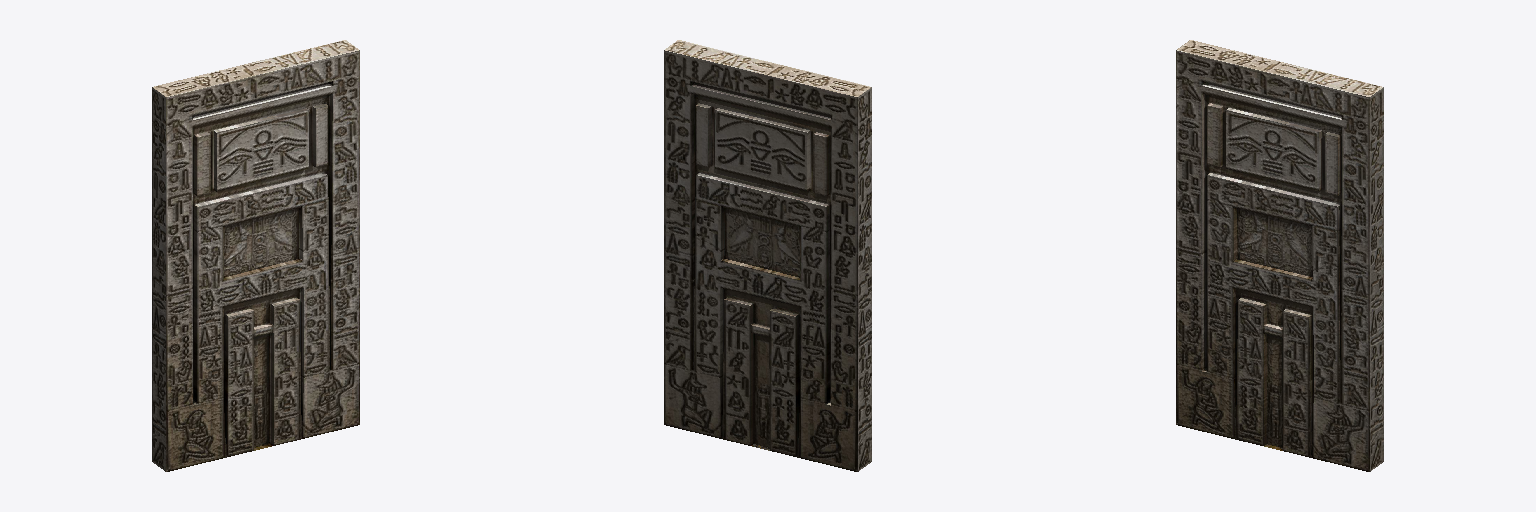
The picture shows the model from 3 angles: view 1: azimuth 30°, elevation 25°; view 2: azimuth 150°, elevation 25°; view 3: azimuth 330°, elevation 25°; orthographic projection.
Parts seen in each view (by area): view 1: doorway_door; view 2: doorway_door; view 3: doorway_door.
Boxes of the visible parts, x1,y1,x2,y2 form: doorway_door: [152, 40, 359, 471]; doorway_door: [664, 40, 871, 471]; doorway_door: [1176, 40, 1383, 471].
Bounding box in the file's own units: 4.28 × 7.91 × 0.549.
Materials: 1 (1 with a texture image).